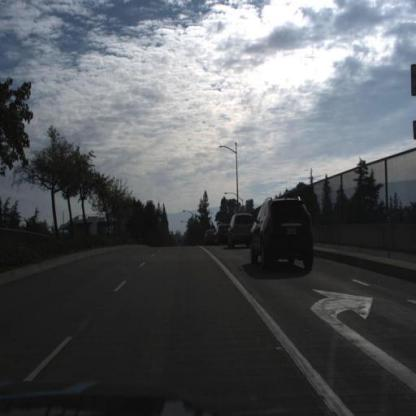car: (249, 195, 317, 272), (228, 211, 258, 248), (216, 223, 230, 246), (214, 224, 228, 246), (206, 230, 215, 248)
